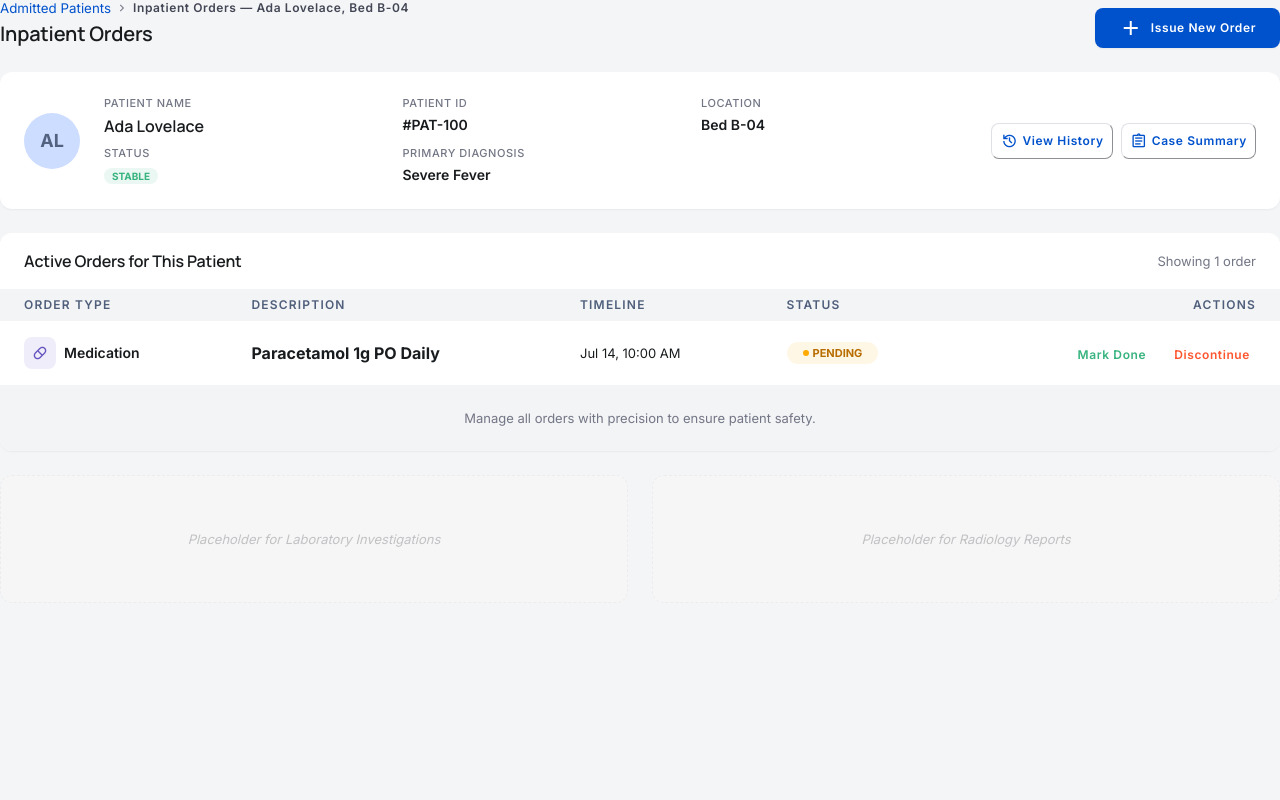
Test: InpatientOrdersPage › opens issue order modal when New Order button is clicked
Expected: the text "Ada Lovelace" is shown, [104,115,204,137]
Click the button "Issue New Order" at (1187, 28), box [1095,8,1279,48]
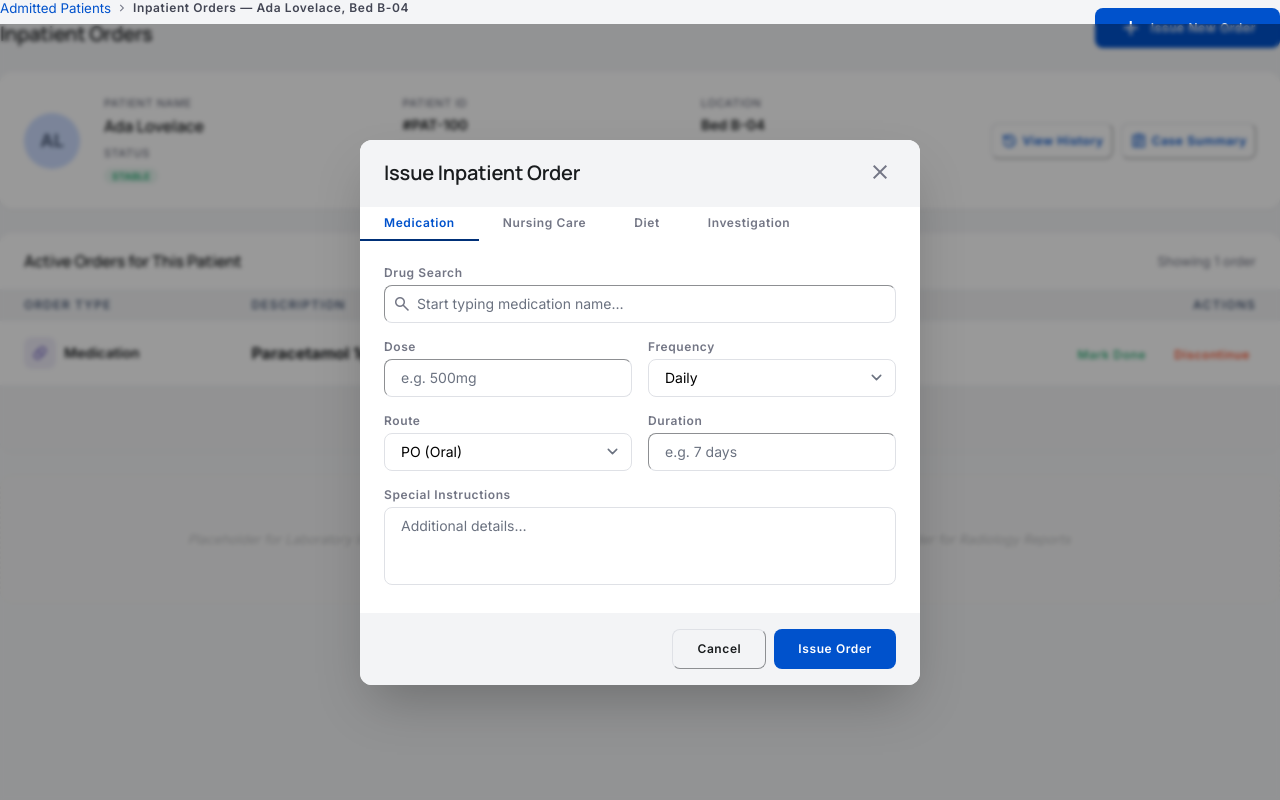
Expected: the dialog is shown
Expected: the heading "Issue Inpatient Order" is shown, [384,159,580,187]
